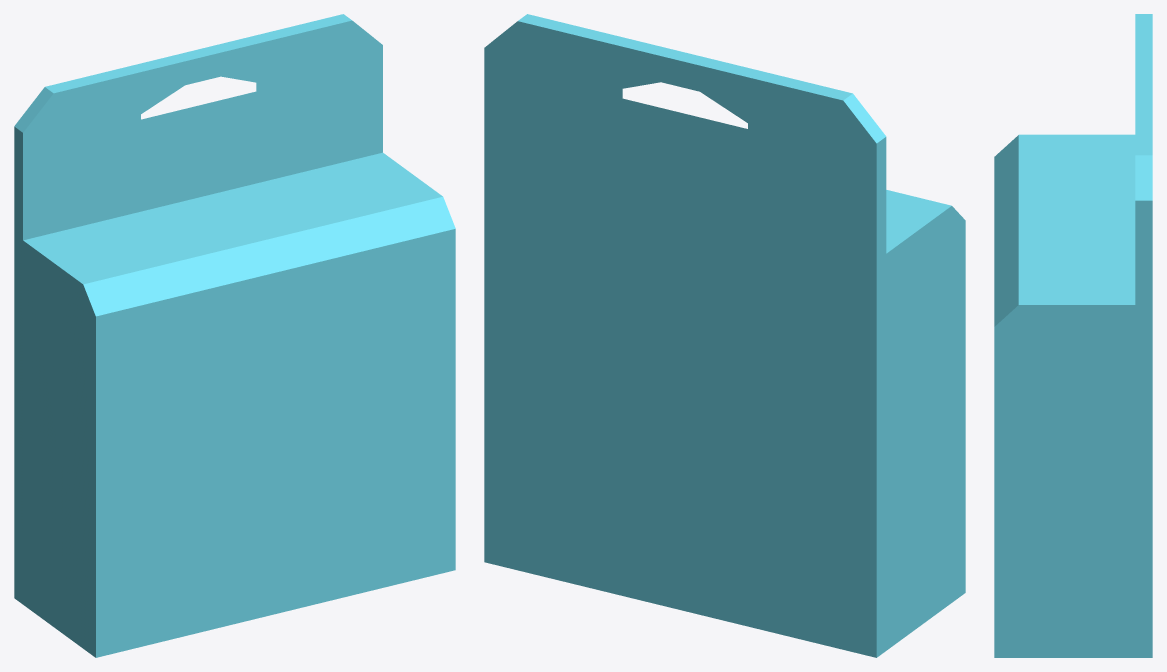
File: VER 2 wandoms.fbx
The picture shows the model from 3 angles, left to right: view 1: azimuth 30°, elevation 25°; view 2: azimuth 150°, elevation 25°; view 3: azimuth 270°, elevation 25°; orthographic projection. The views are drawn at different scales.
Visible parts, largest first — view 1: wandoms; view 2: wandoms; view 3: wandoms.
Part boxes in pixels (x1=…): wandoms: x1=14, y1=14, x2=455, y2=657; wandoms: x1=484, y1=14, x2=965, y2=657; wandoms: x1=994, y1=14, x2=1152, y2=657.
Size of the model in its own units: 0.6663 by 0.2619 by 0.8913.
